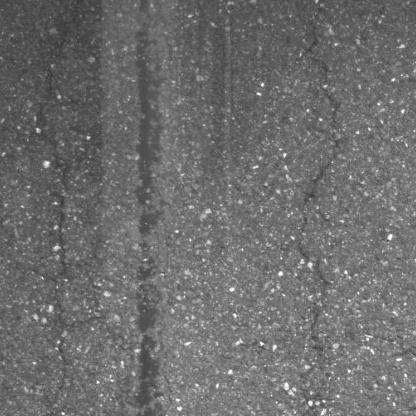Cracks: (29, 28, 112, 409), (294, 23, 348, 292), (307, 307, 325, 351), (293, 404, 319, 416)
